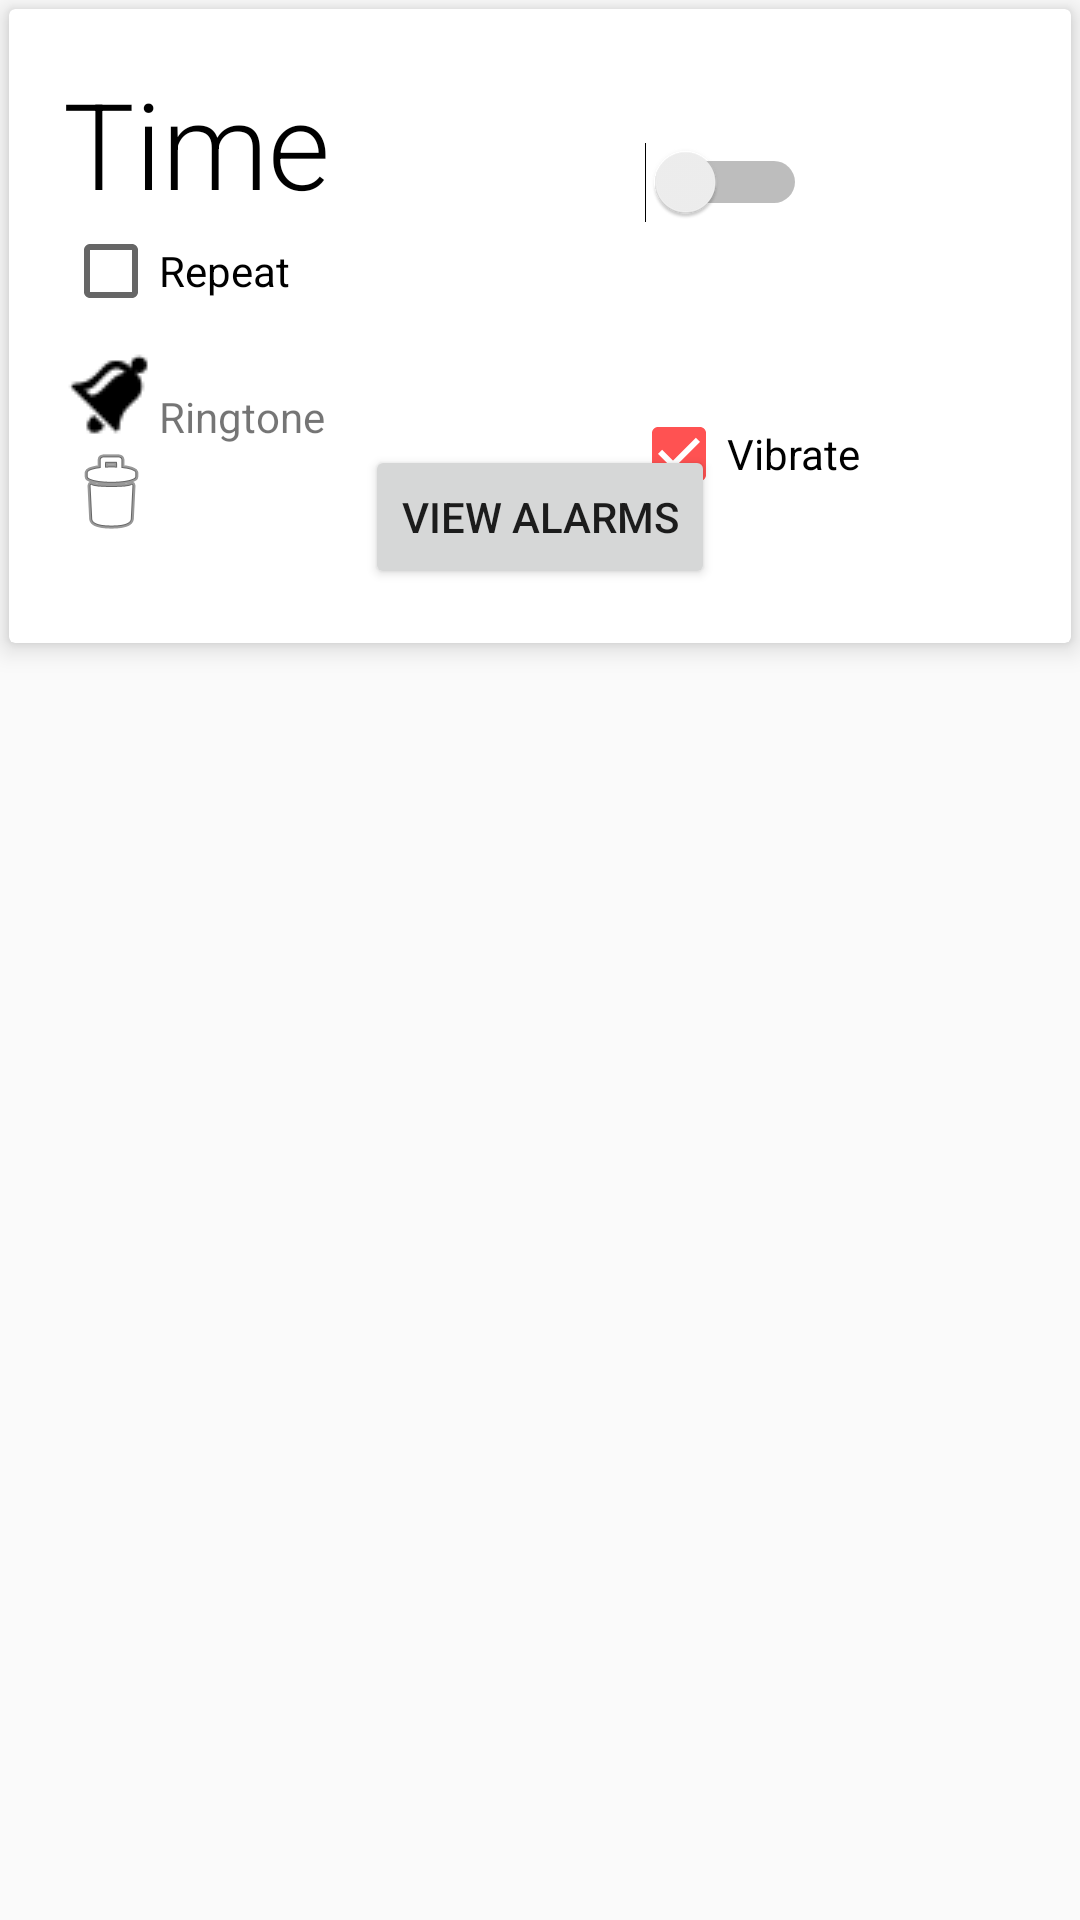

Point at icon controls on the screen. Image size 1080px×1920px, points as [x,y].
delete: [111,491]
